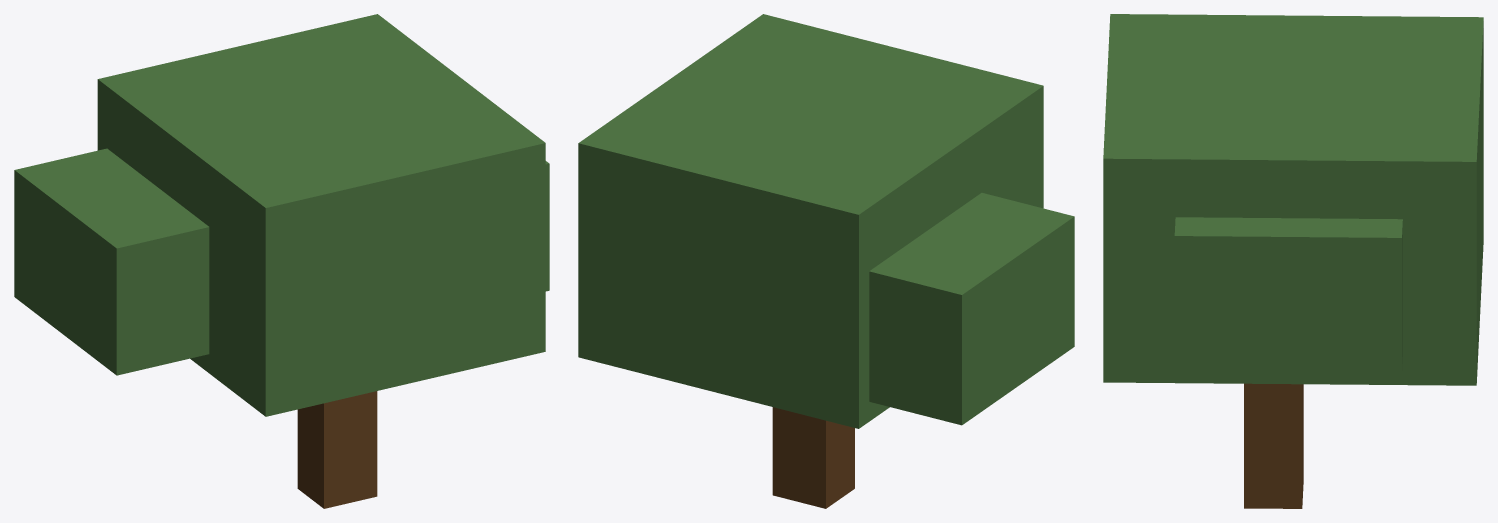
The model's file is trees6.gltf.
3 renders of one model, left to right at view 1: azimuth 30°, elevation 25°; view 2: azimuth 150°, elevation 25°; view 3: azimuth 270°, elevation 25°, orthographic. The views are drawn at different scales.
Parts seen in each view (by area): view 1: Cube.015, Cube.010, Cube.013, Cube.014; view 2: Cube.015, Cube.010, Cube.013; view 3: Cube.015, Cube.014, Cube.013.
Part boxes in pixels (x1,y1,x2,y2): Cube.015: (97,14,545,416); Cube.010: (14,148,209,375); Cube.013: (297,391,377,508); Cube.014: (545,161,549,291); Cube.015: (578,14,1043,428); Cube.010: (869,193,1074,425); Cube.013: (772,407,854,508); Cube.015: (1103,14,1483,385); Cube.014: (1174,217,1402,374); Cube.013: (1244,383,1303,508).
Bounding box in the file's own units: 0.4548 × 0.4021 × 0.3434.
